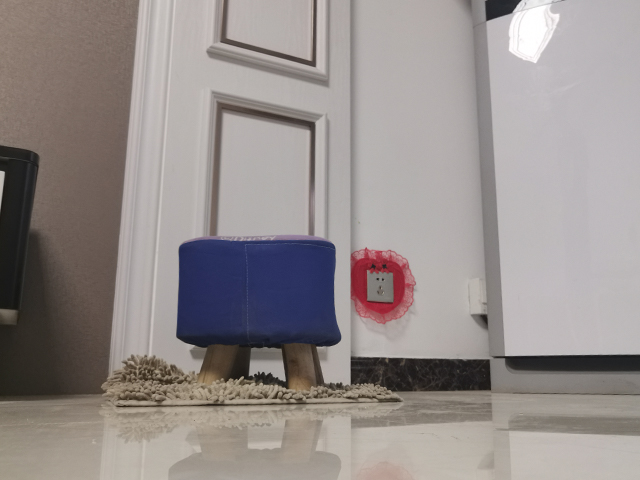carpet: (99, 352, 405, 412)
stool: (174, 231, 344, 392)
